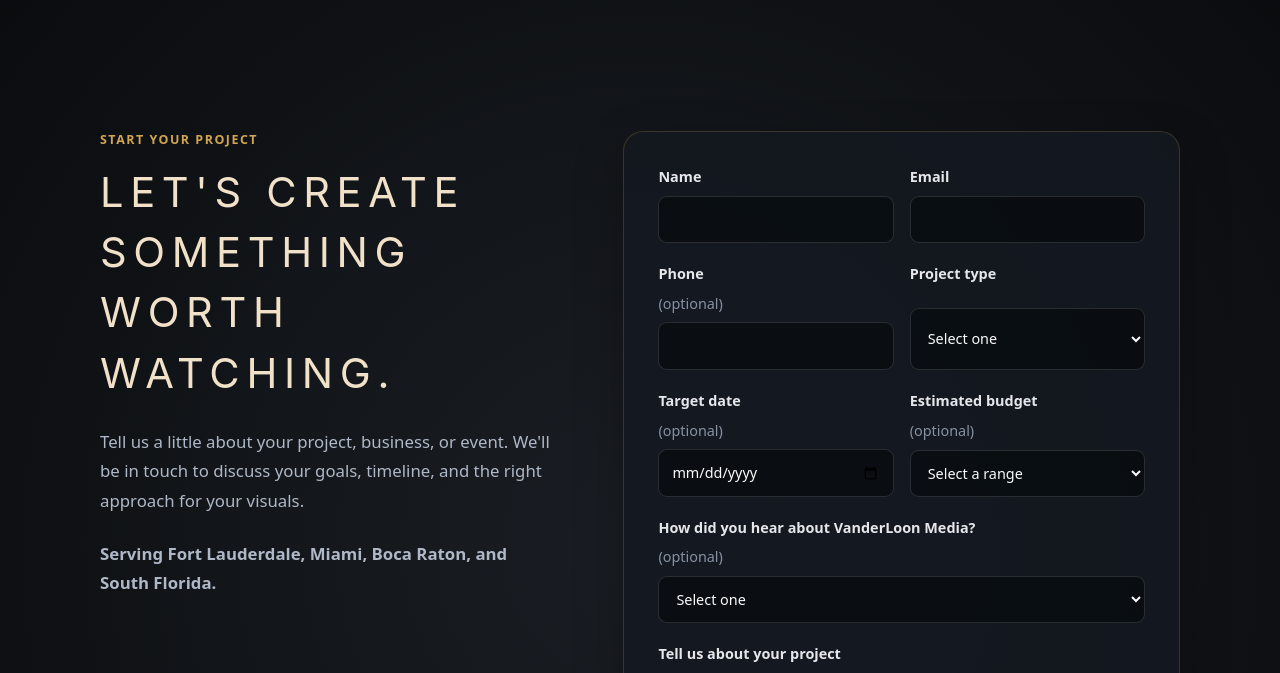
Test: project inquiry form › does not record a lead when submission fails
Type "Test Client" into the field labelled "Name" at (776, 219), box [658, 196, 894, 243]
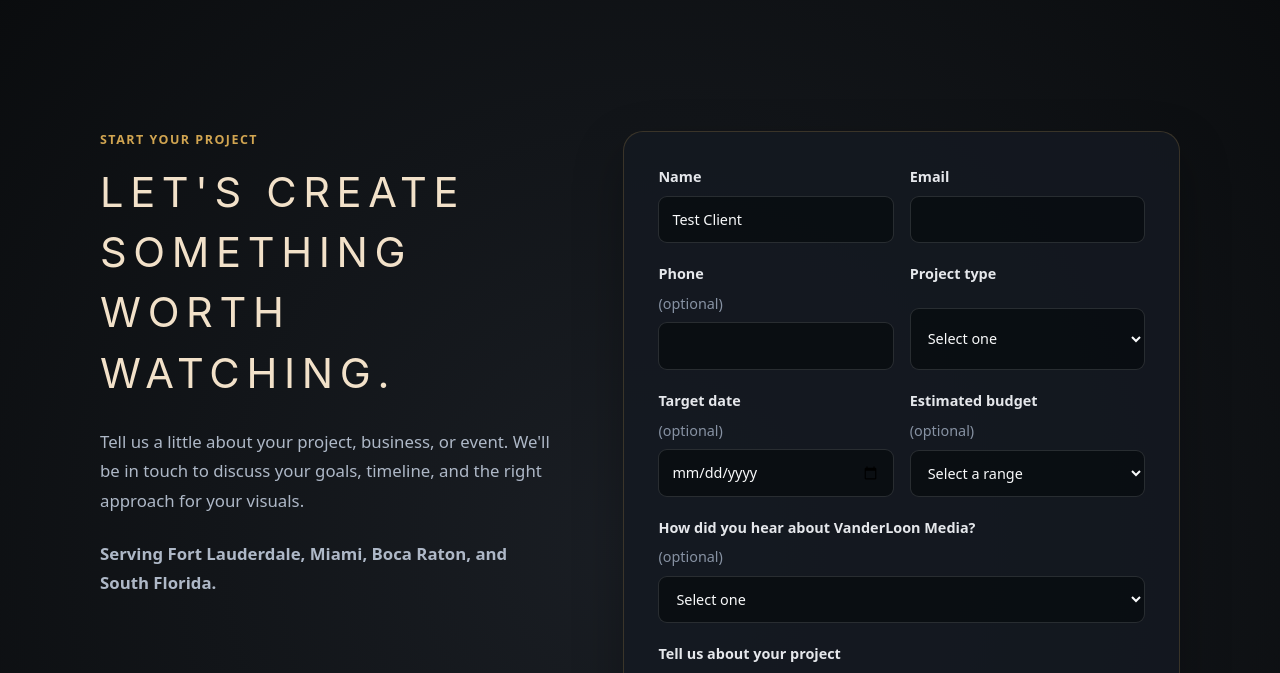
Type "client@example.com" into the field labelled "Email" at (1027, 219), box [910, 196, 1145, 243]
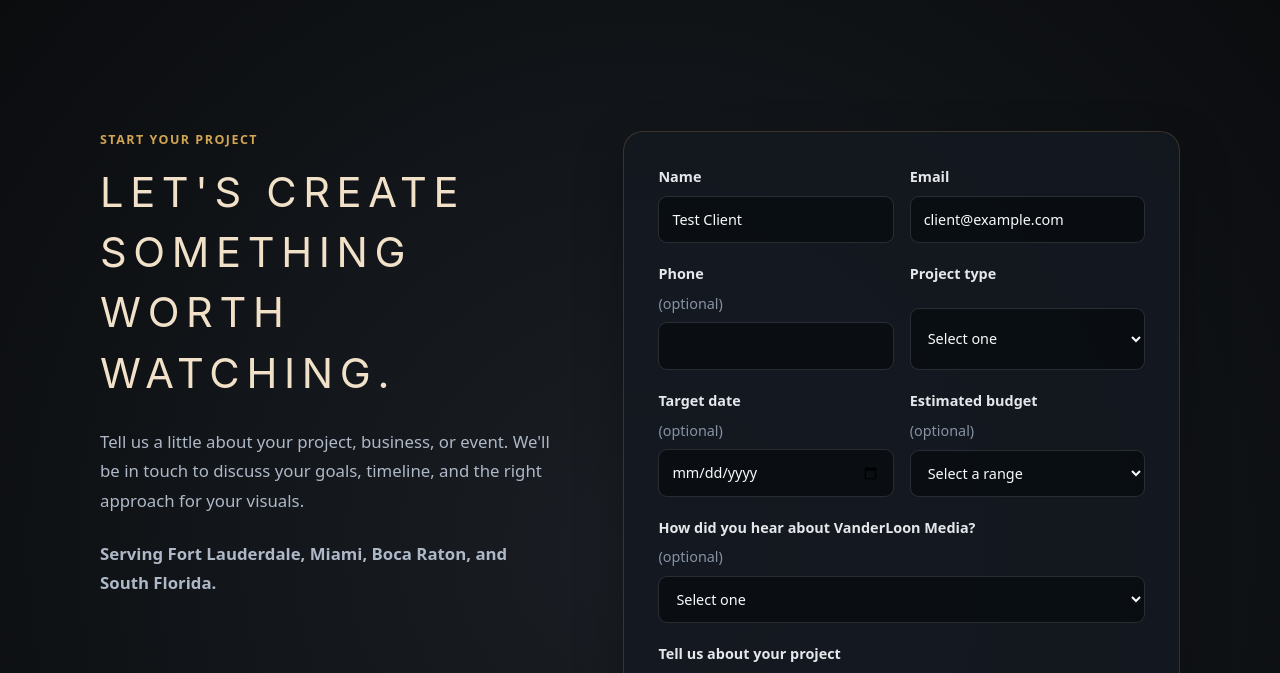
Select "Photography" in the dropdown labelled "Project type" at (1027, 339), box [910, 308, 1145, 370]
(page scrolled)
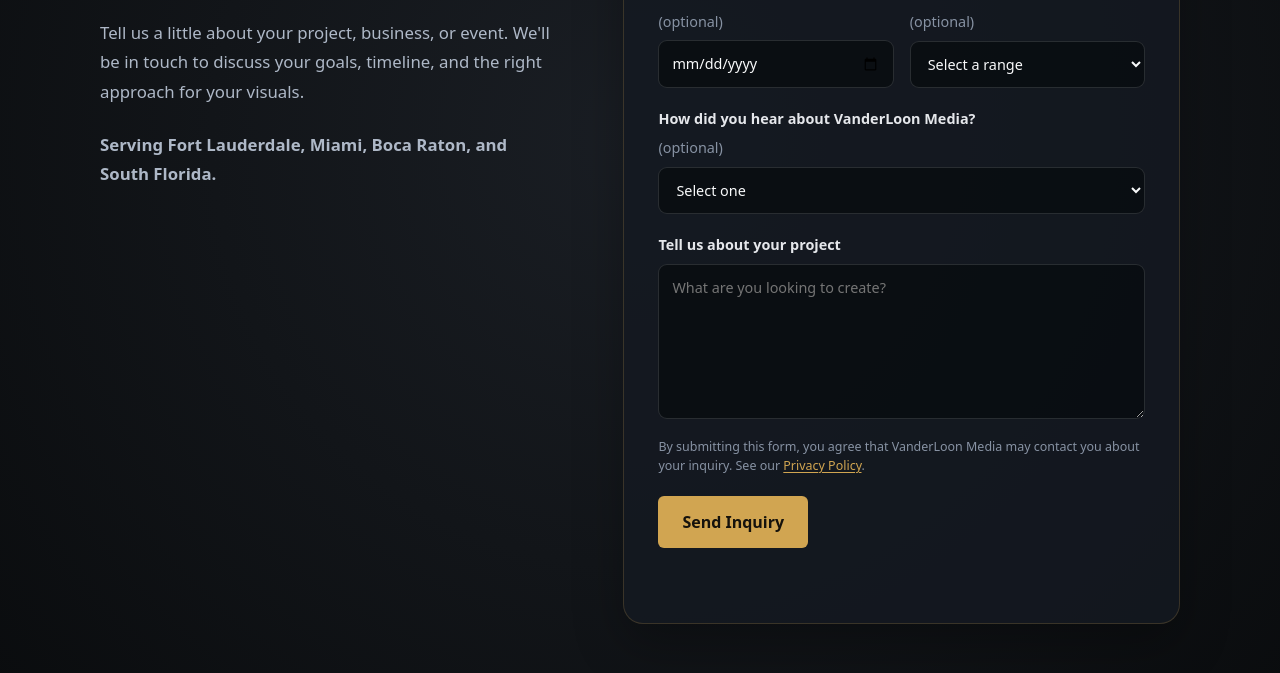
Type "A portrait session." into the text box labelled "Tell us about your project" at (902, 341), box [658, 264, 1145, 419]
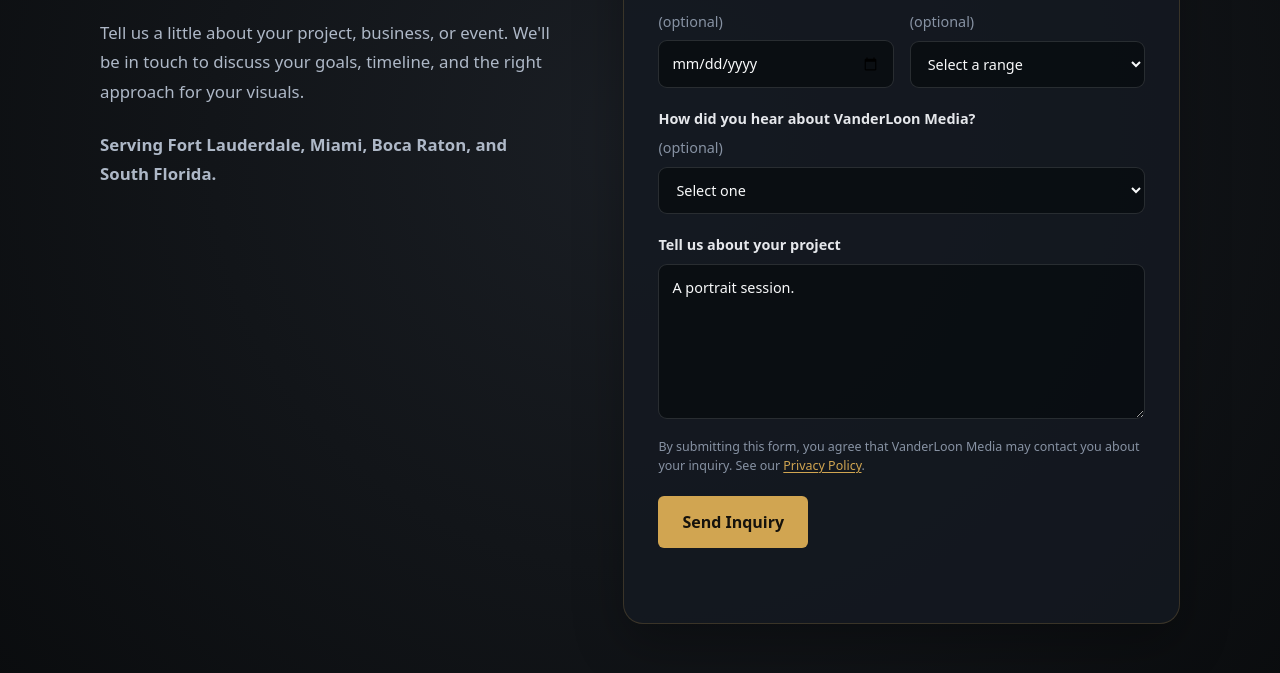
Click the button "Send Inquiry" at (733, 522), box [658, 496, 808, 548]
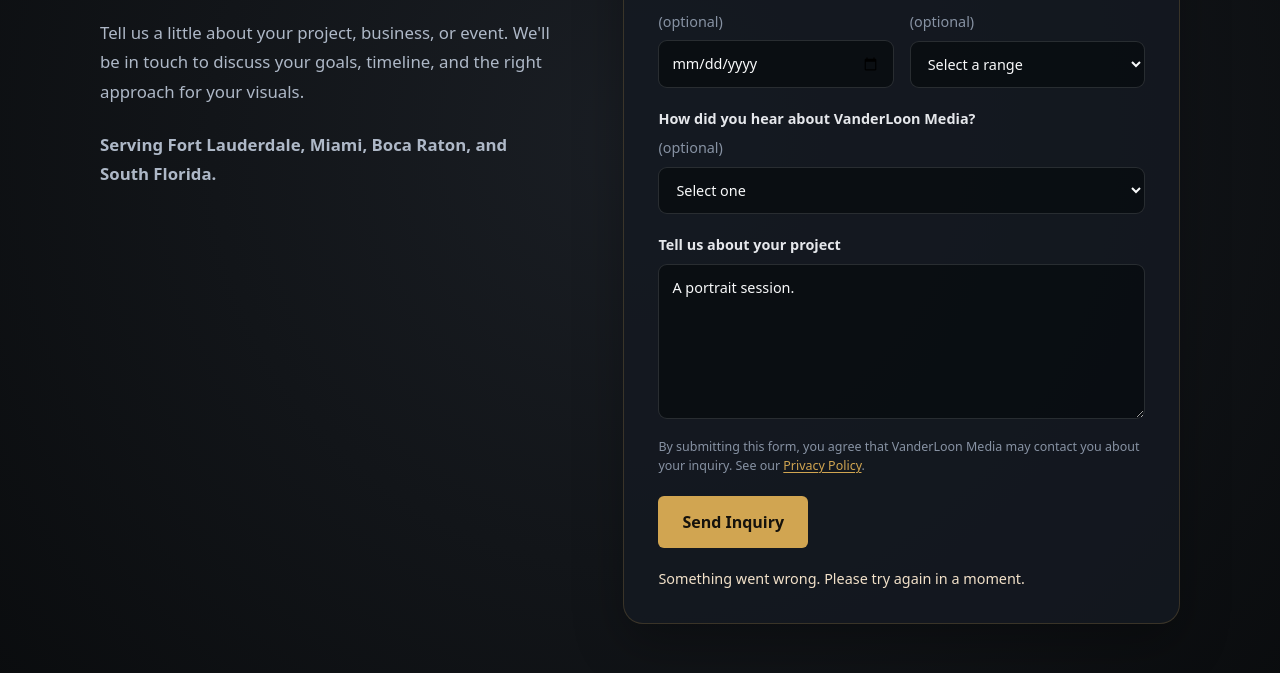
expect the text "Something went wrong. Please try again in a moment." is shown: met, box [658, 569, 1025, 588]
